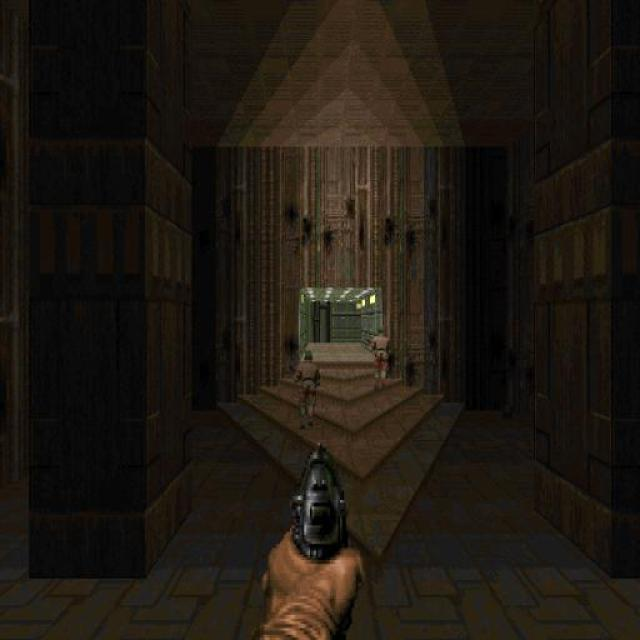pistol: (290, 441, 355, 590)
